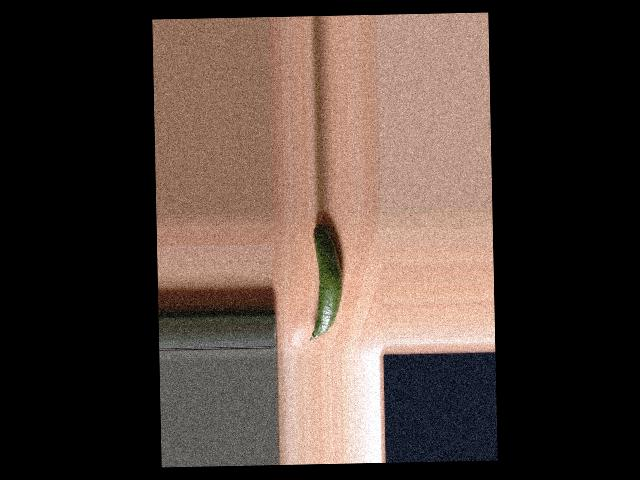cucumber: (307, 222, 344, 341)
